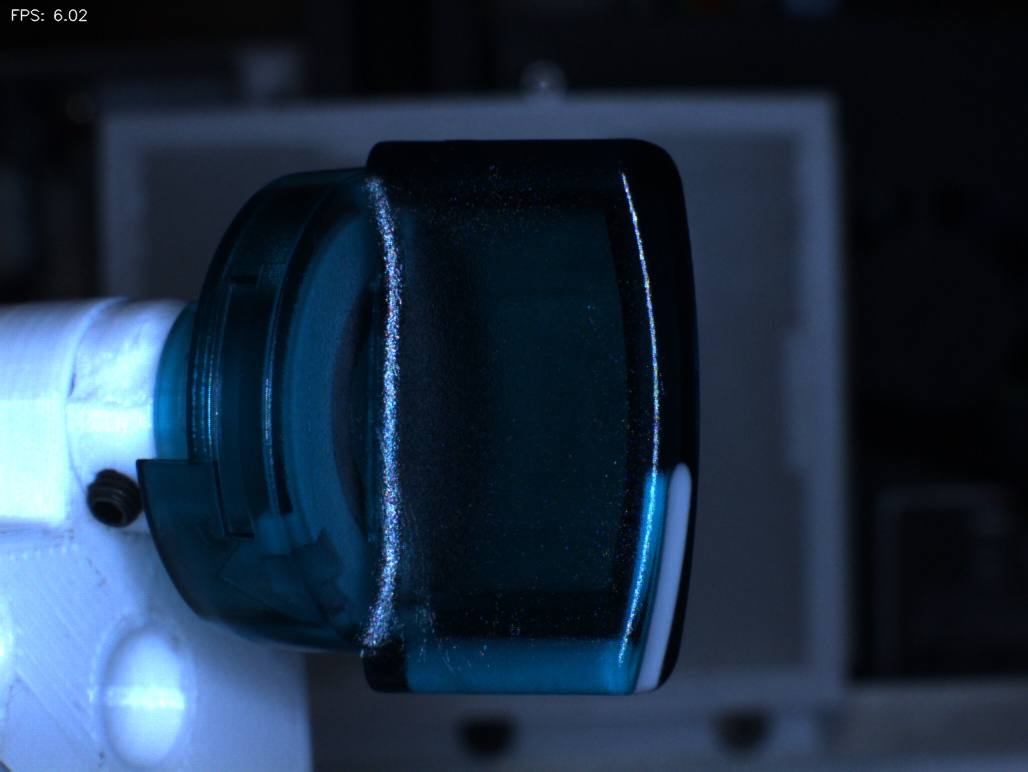Givrage: (365, 467, 479, 674)
